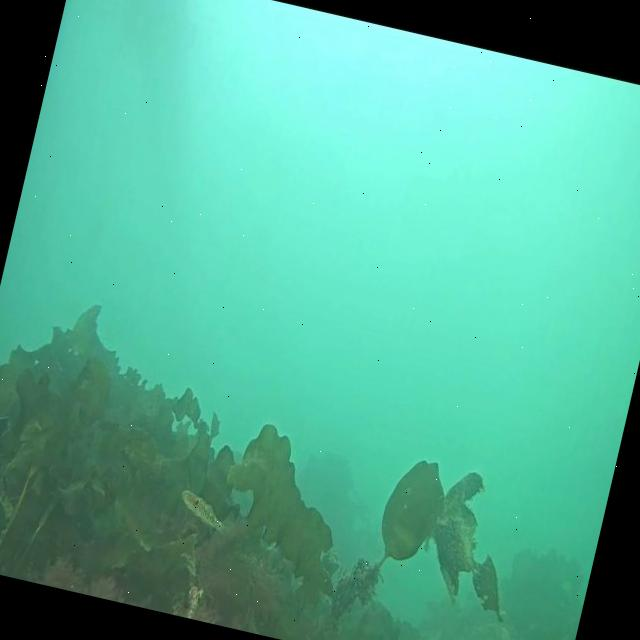fish: (174, 488, 232, 534)
